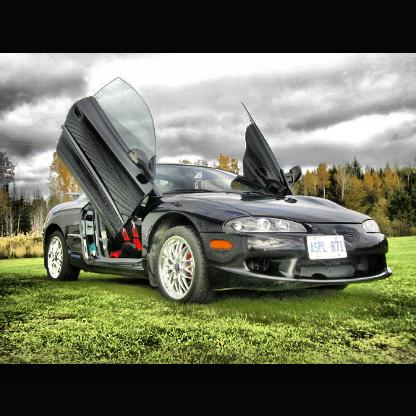Eagle Talon Hatchback 1998: (44, 96, 393, 302)
